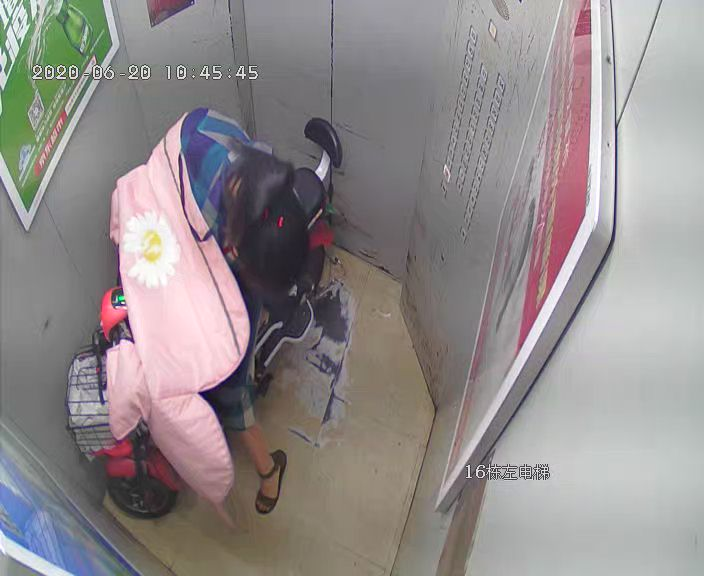Electric-bicycle: (65, 115, 343, 517)
